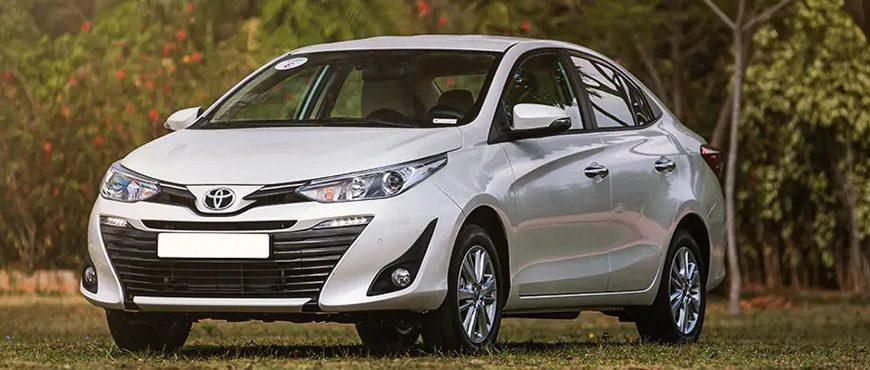Sedan: (70, 10, 747, 370)
